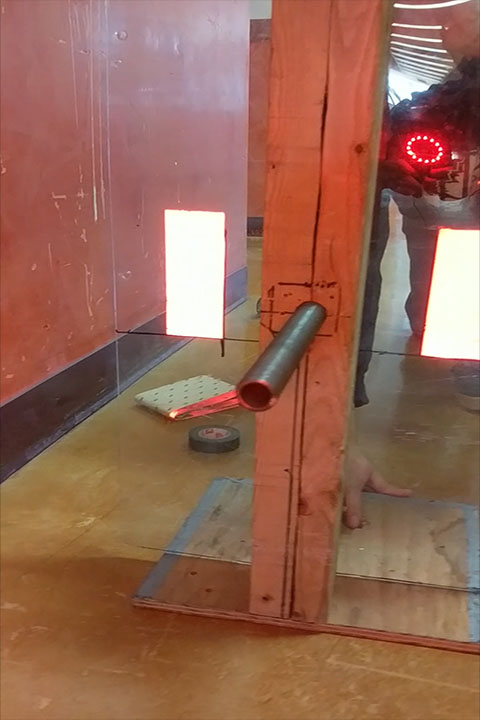gear: (163, 207, 226, 341), (420, 226, 480, 361)
